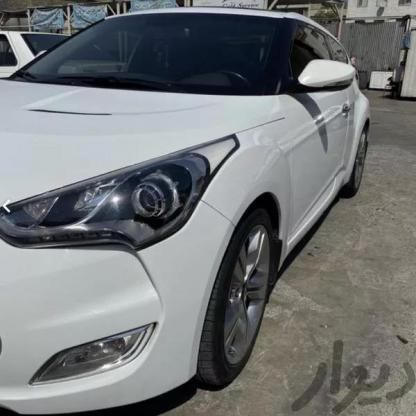Car: (0, 18, 369, 402)
